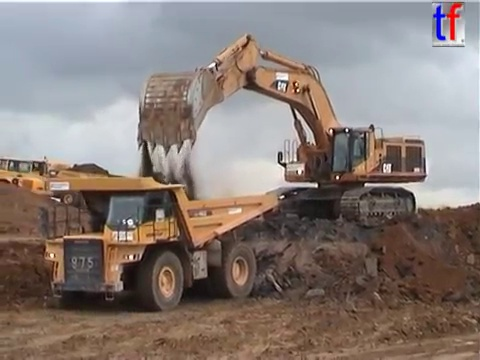excavator: (135, 31, 429, 229)
truck: (36, 174, 280, 313), (15, 154, 129, 212), (1, 156, 51, 202)
